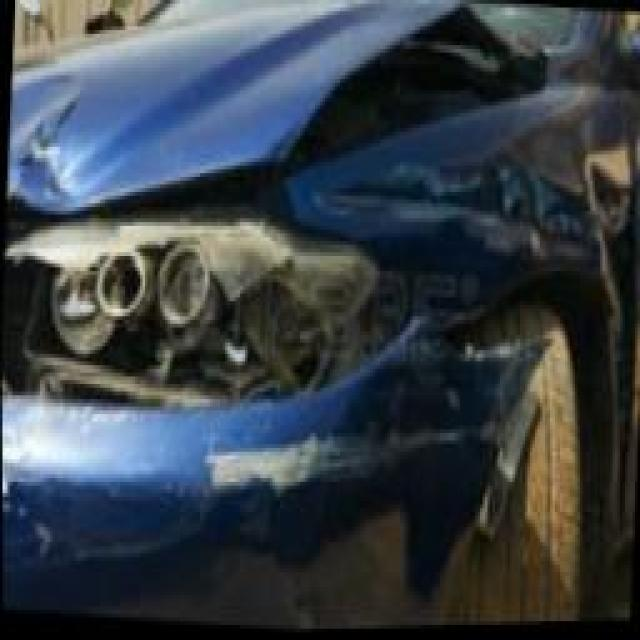Bonnet: (8, 2, 577, 212)
Bumper: (1, 334, 566, 632)
Fender: (282, 83, 628, 524)
Light: (1, 211, 423, 411)
